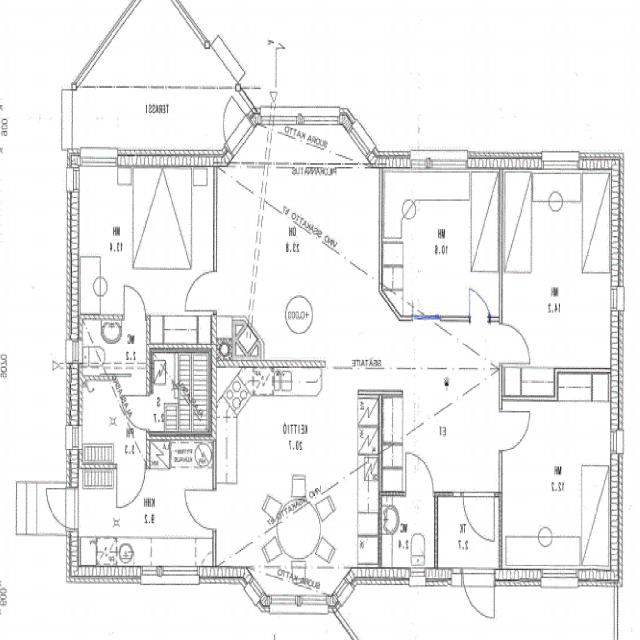door: (207, 88, 255, 156), (464, 566, 495, 630), (37, 488, 79, 530), (464, 491, 494, 540), (116, 463, 145, 508), (184, 490, 216, 530), (499, 412, 531, 451), (184, 272, 216, 310), (499, 325, 530, 364), (406, 454, 433, 496), (122, 396, 152, 429), (124, 284, 146, 320), (469, 286, 490, 321)
